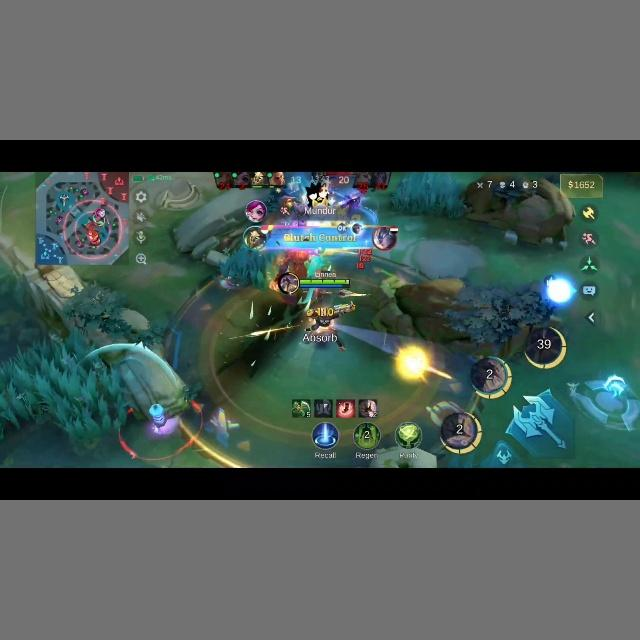hp_enemy: (331, 172, 355, 177)
hp_self: (299, 278, 352, 286)
minion_ally: (221, 276, 243, 292)
